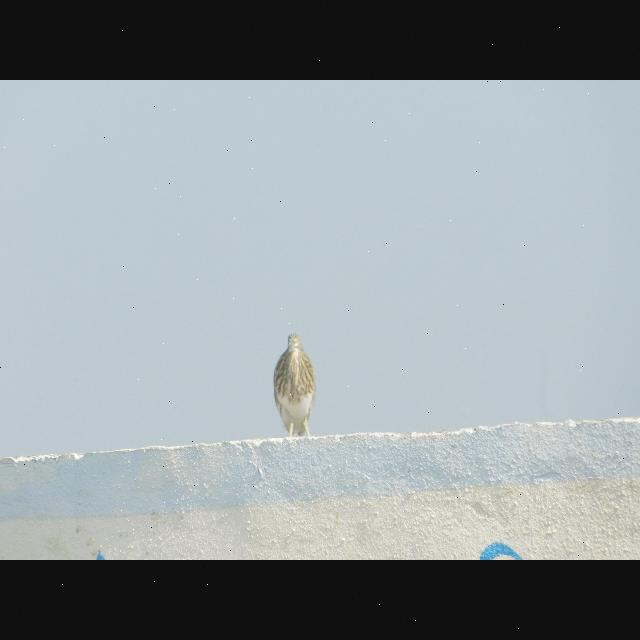heron: (270, 332, 320, 443)
